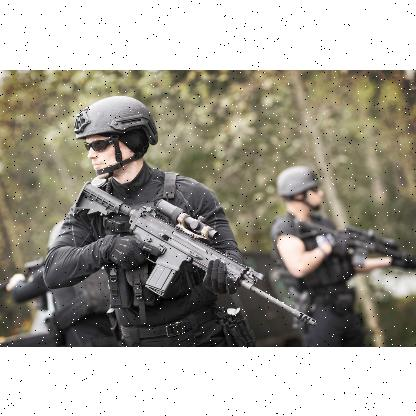gun: (67, 180, 314, 320), (295, 220, 415, 266)
